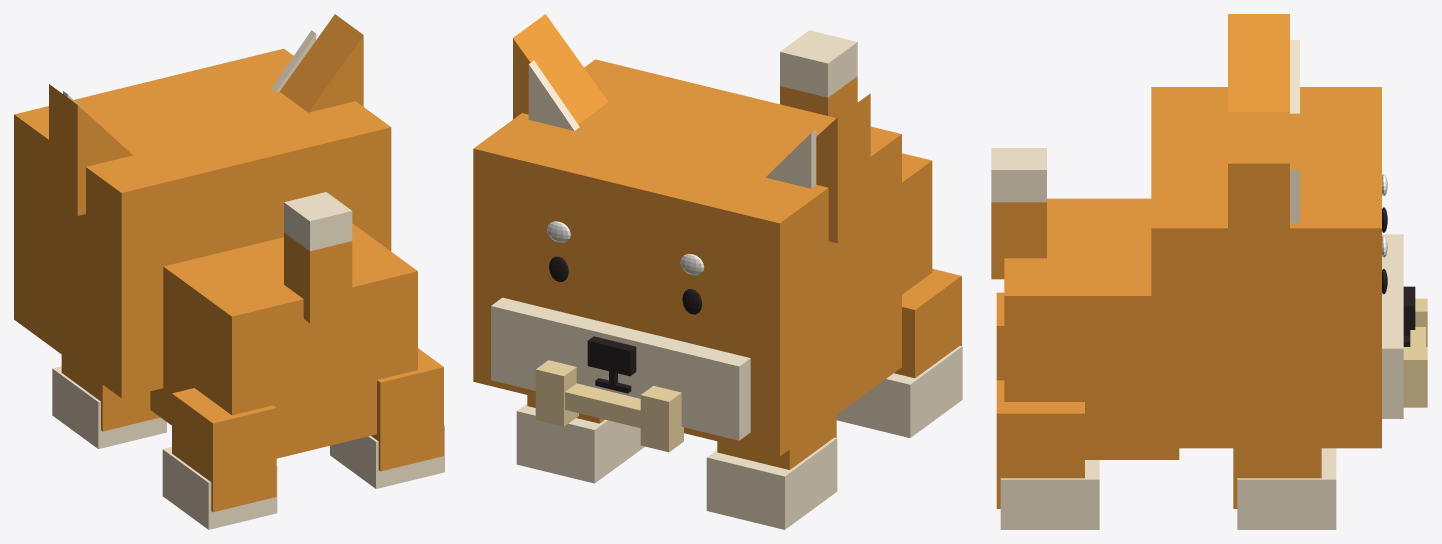
File: Shiba_Block.glb
3 views of the same model, side by side, from view 1: azimuth 30°, elevation 25°; view 2: azimuth 150°, elevation 25°; view 3: azimuth 270°, elevation 25° (orthographic). The views are drawn at different scales.
Parts seen in each view (by area): view 1: BigHead, ShortTorso, LegBL_Leg, LegBR_Leg, EarL, EarR, TailRoot, LegBL_Paw, LegFL_Paw, TailCreamTip, LegBR_Paw, LegFL_Leg (+1 smaller); view 2: BigHead, CreamMuzzle, LegFL_Paw, LegFR_Paw, EarL, LegBL_Paw, LegBL_Leg, EarR, TailCreamTip, ShortTorso, BoneBlockEndL, BoneBlockEndR (+6 smaller); view 3: BigHead, ShortTorso, EarR, LegBR_Leg, EarL, LegFR_Paw, LegBR_Paw, CreamMuzzle, TailRoot, TailCreamTip, LegFR_Leg, BoneBlockEndR (+4 smaller).
Boxes of the visible parts, x1,y1,x2,y2 form: BigHead: [14, 48, 391, 398]; ShortTorso: [150, 223, 417, 458]; LegBL_Leg: [172, 388, 276, 512]; LegBR_Leg: [371, 348, 443, 471]; EarL: [49, 84, 132, 215]; EarR: [279, 14, 363, 112]; TailRoot: [284, 232, 352, 322]; LegBL_Paw: [162, 447, 277, 529]; LegFL_Paw: [52, 366, 166, 448]; TailCreamTip: [284, 192, 352, 251]; LegBR_Paw: [330, 425, 444, 488]; LegFL_Leg: [61, 355, 160, 431]; BigHead: [473, 59, 901, 456]; CreamMuzzle: [491, 297, 750, 440]; LegFL_Paw: [706, 437, 837, 529]; LegFR_Paw: [516, 403, 644, 483]; EarL: [816, 93, 870, 243]; LegBL_Paw: [836, 346, 962, 437]; LegBL_Leg: [894, 269, 961, 378]; EarR: [513, 14, 608, 124]; TailCreamTip: [780, 30, 857, 97]; ShortTorso: [902, 153, 932, 294]; BoneBlockEndL: [640, 385, 683, 452]; BoneBlockEndR: [535, 360, 578, 426]; BigHead: [1151, 87, 1381, 448]; ShortTorso: [1004, 198, 1179, 459]; EarR: [1228, 163, 1289, 282]; LegBR_Leg: [996, 380, 1084, 508]; EarL: [1228, 14, 1289, 111]; LegFR_Paw: [1237, 448, 1336, 529]; LegBR_Paw: [1000, 460, 1099, 529]; CreamMuzzle: [1382, 234, 1403, 418]; TailRoot: [991, 202, 1046, 279]; TailCreamTip: [991, 148, 1046, 202]; LegFR_Leg: [1233, 448, 1321, 508]; BoneBlockEndR: [1403, 347, 1427, 407].
Size of the model in its own units: 2.29 by 2.7 by 2.82.
